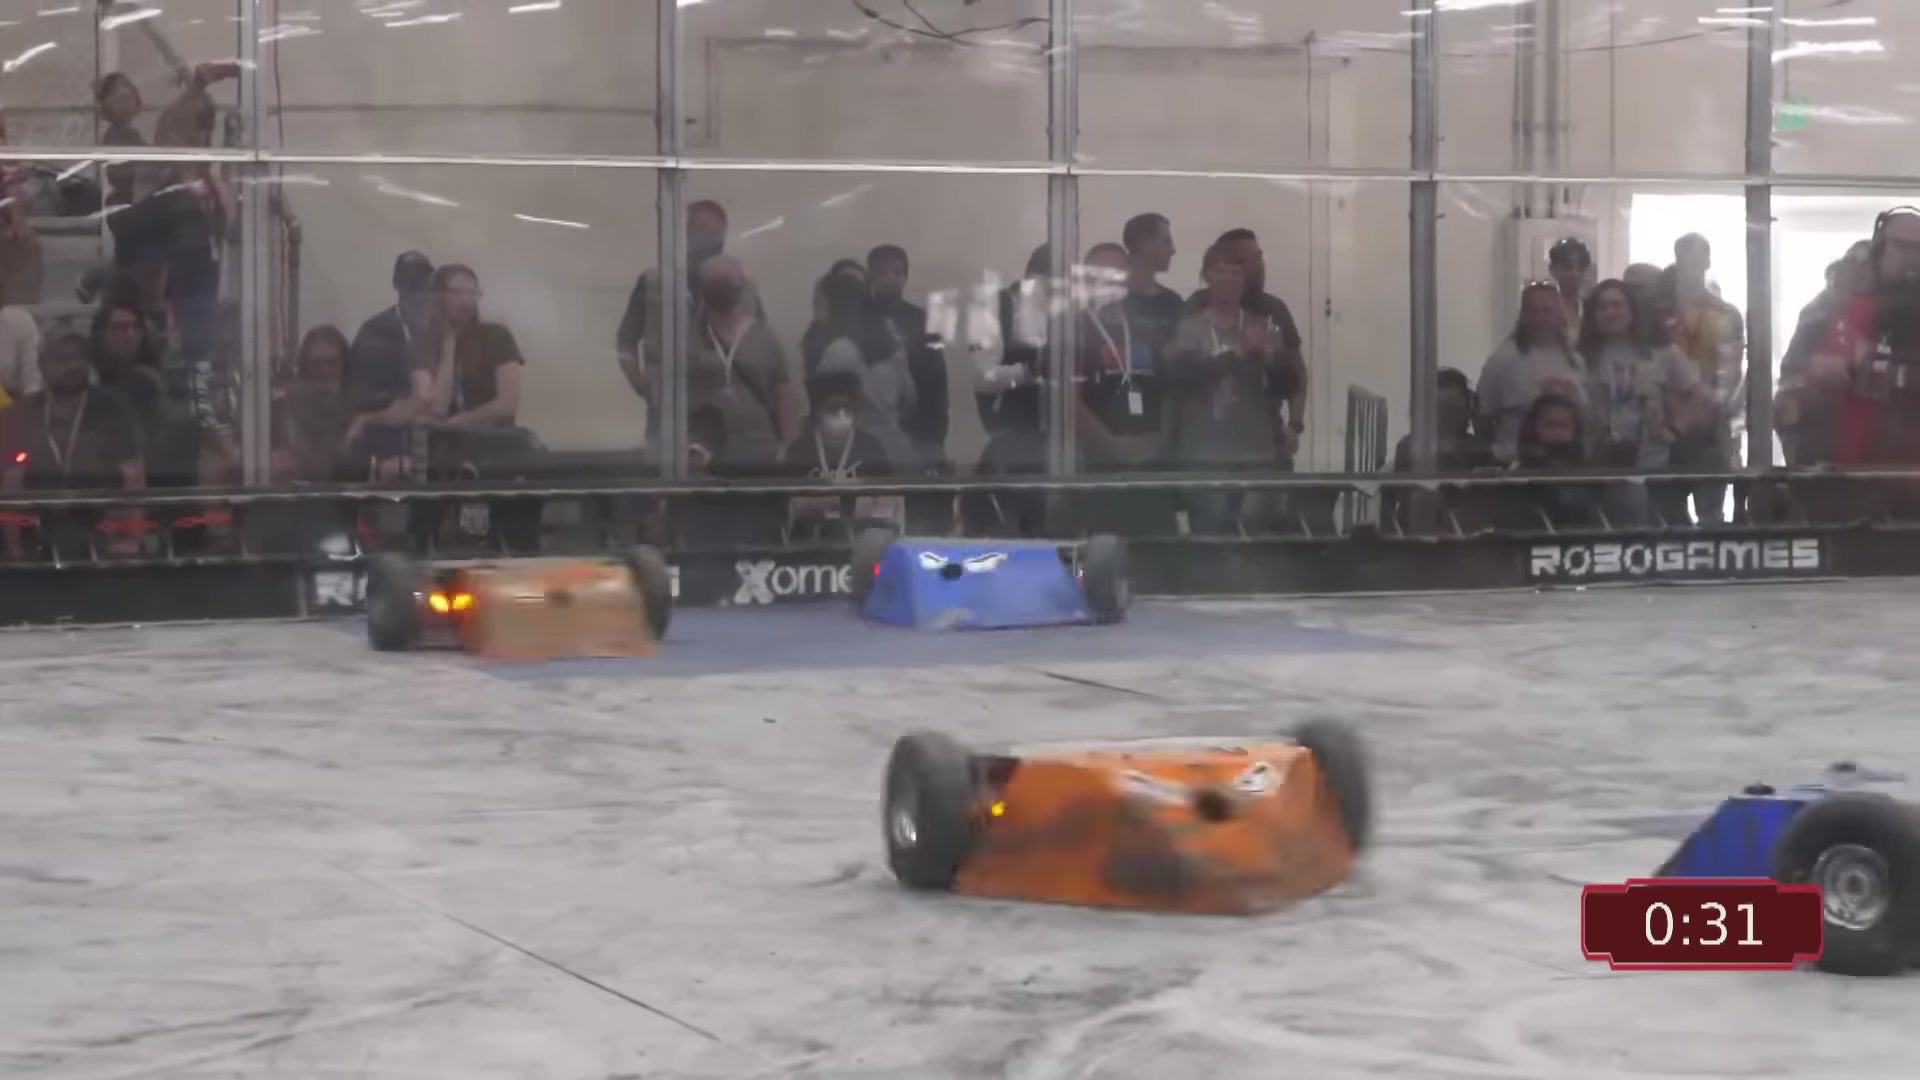combatbot: (885, 721, 1387, 919), (1633, 765, 1920, 976), (368, 546, 675, 657), (851, 527, 1147, 632)
